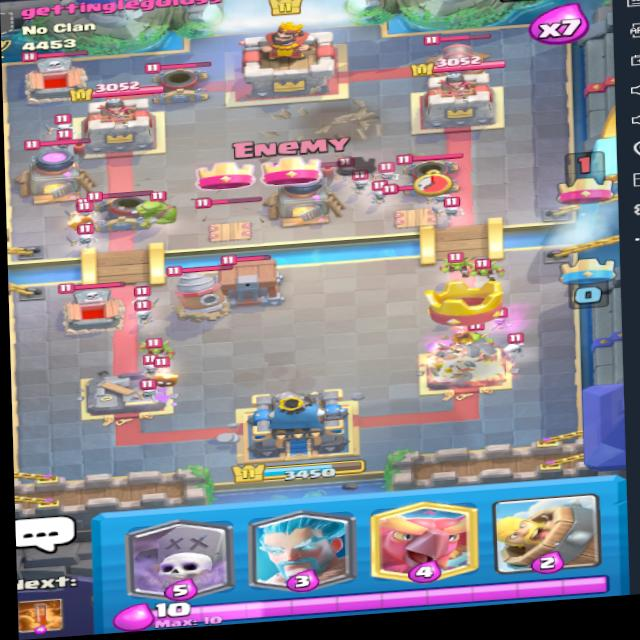Cannon: (419, 25, 494, 85)
Firespirit: (151, 365, 190, 392), (72, 201, 100, 237)
Furnace: (260, 153, 356, 224), (14, 133, 93, 197)
Goblin: (469, 256, 508, 284), (137, 334, 177, 361), (435, 254, 466, 279)
Goblinbrawler: (128, 187, 192, 234)
Goblincage: (206, 241, 288, 307)
Goblindrill: (156, 257, 236, 323)
Mortar: (82, 178, 158, 236), (392, 142, 468, 196), (143, 51, 216, 103)
Skeleton: (88, 163, 121, 187), (496, 333, 528, 357), (102, 254, 138, 275), (445, 193, 470, 221), (44, 113, 80, 132), (138, 349, 166, 373), (126, 306, 157, 324), (470, 268, 494, 289), (125, 288, 152, 306)
Teslahidden: (196, 188, 271, 242), (382, 175, 454, 230)
Tombstone: (52, 274, 136, 330), (23, 45, 104, 102)
